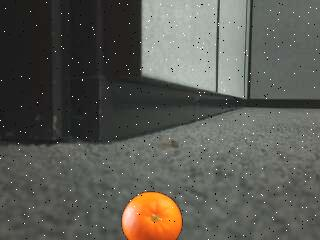Orange: (121, 192, 183, 240)
